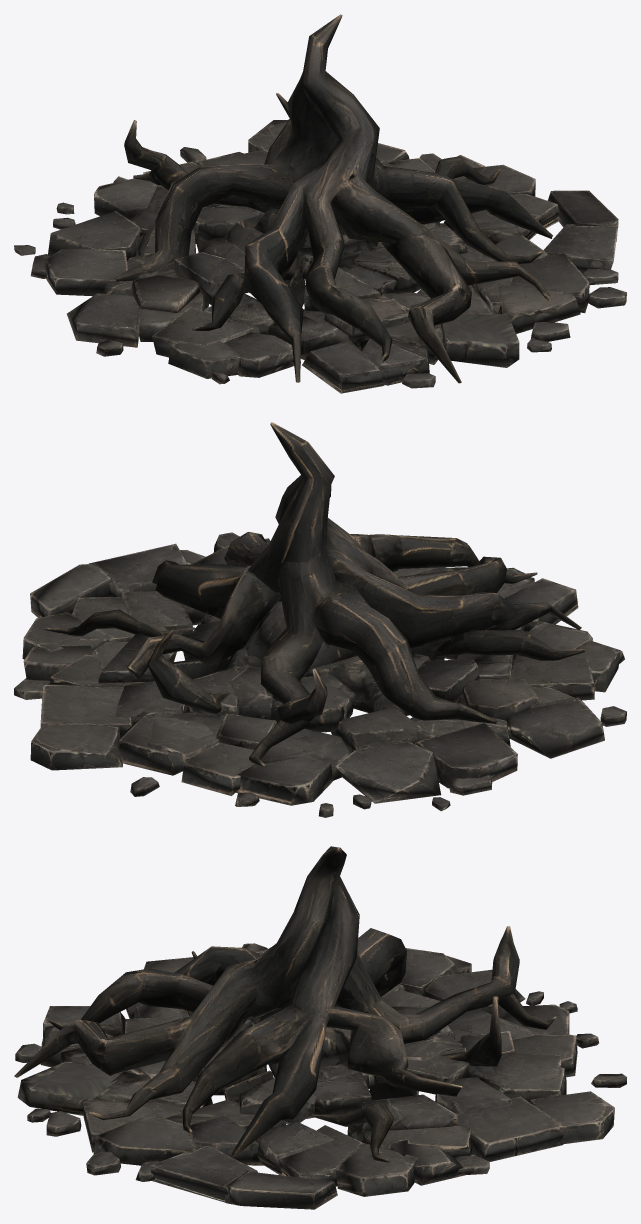
Rendered from tendrils-of-the-crack.glb.
3 views of the same model, one above another, from view 1: azimuth 30°, elevation 25°; view 2: azimuth 150°, elevation 25°; view 3: azimuth 270°, elevation 25° (orthographic). The views are drawn at different scales.
Parts seen in each view (by area): view 1: tendrils-of-the-crack; view 2: tendrils-of-the-crack; view 3: tendrils-of-the-crack.
Boxes of the visible parts, x1=… form: tendrils-of-the-crack: x1=14, y1=14, x2=626, y2=393; tendrils-of-the-crack: x1=14, y1=422, x2=626, y2=817; tendrils-of-the-crack: x1=14, y1=846, x2=626, y2=1209.
Bounding box in the file's own units: 1 × 0.4589 × 0.9961.
1 material, 1 textured.
